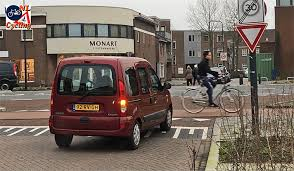yield: (237, 24, 268, 54)
